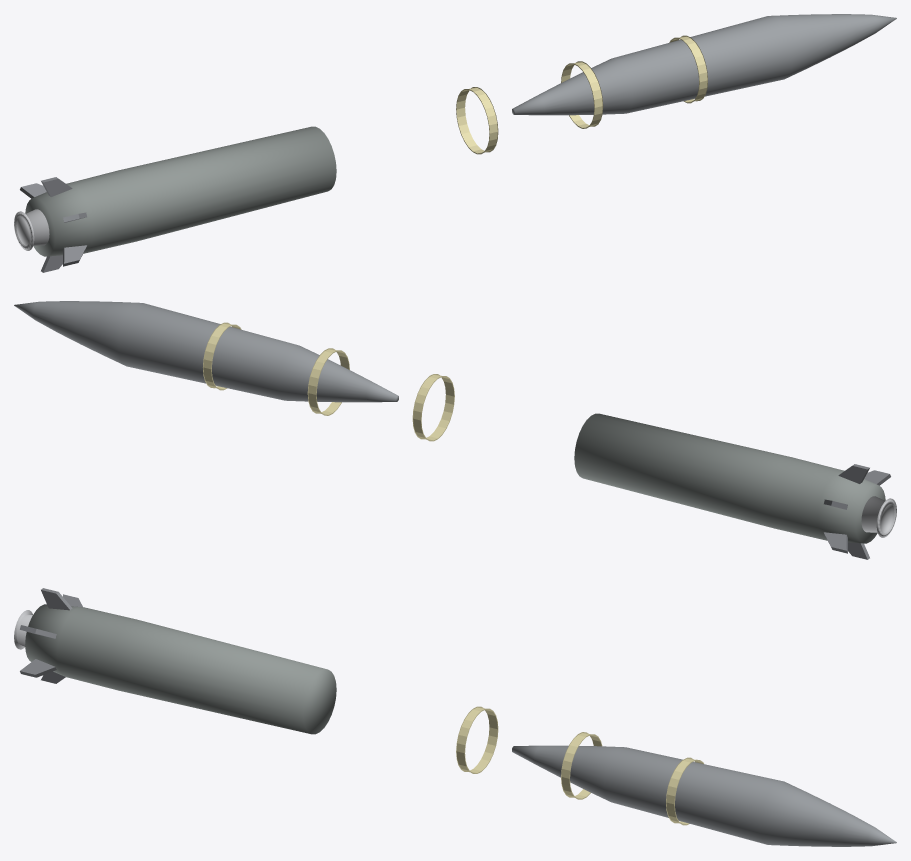
Rendered from RU_ASW_Vodopad_LOD1.fbx.
3 renders of one model, top to bottom at view 1: azimuth 30°, elevation 25°; view 2: azimuth 150°, elevation 25°; view 3: azimuth 330°, elevation 25°, orthographic.
Parts seen in each view (by area): view 1: WPN_RU_ASW_Vodopad_LOD1_Tail, WPN_RU_ASW_Vodopad_LOD1_Body, WPN_RU_ASW_Vodopad_LOD1_Marking, WPN_RU_ASW_Vodopad_LOD1_Fins, WPN_RU_ASW_Vodopad_LOD1_Propulsor; view 2: WPN_RU_ASW_Vodopad_LOD1_Tail, WPN_RU_ASW_Vodopad_LOD1_Body, WPN_RU_ASW_Vodopad_LOD1_Marking, WPN_RU_ASW_Vodopad_LOD1_Fins, WPN_RU_ASW_Vodopad_LOD1_Propulsor; view 3: WPN_RU_ASW_Vodopad_LOD1_Tail, WPN_RU_ASW_Vodopad_LOD1_Body, WPN_RU_ASW_Vodopad_LOD1_Marking, WPN_RU_ASW_Vodopad_LOD1_Fins.
Part boxes in pixels (x1,y1,x2,y2): WPN_RU_ASW_Vodopad_LOD1_Tail: (25,126,336,256); WPN_RU_ASW_Vodopad_LOD1_Body: (512,14,896,115); WPN_RU_ASW_Vodopad_LOD1_Marking: (456,35,707,154); WPN_RU_ASW_Vodopad_LOD1_Fins: (20,177,86,272); WPN_RU_ASW_Vodopad_LOD1_Propulsor: (14,209,49,250); WPN_RU_ASW_Vodopad_LOD1_Tail: (574,413,885,543); WPN_RU_ASW_Vodopad_LOD1_Body: (14,301,398,402); WPN_RU_ASW_Vodopad_LOD1_Marking: (203,322,454,441); WPN_RU_ASW_Vodopad_LOD1_Fins: (824,464,890,559); WPN_RU_ASW_Vodopad_LOD1_Propulsor: (861,496,896,537); WPN_RU_ASW_Vodopad_LOD1_Tail: (25,604,336,734); WPN_RU_ASW_Vodopad_LOD1_Body: (512,745,896,846); WPN_RU_ASW_Vodopad_LOD1_Marking: (456,706,703,825); WPN_RU_ASW_Vodopad_LOD1_Fins: (20,588,82,683).
Size of the model in its own units: 8.2 by 0.7216 by 0.8102.
